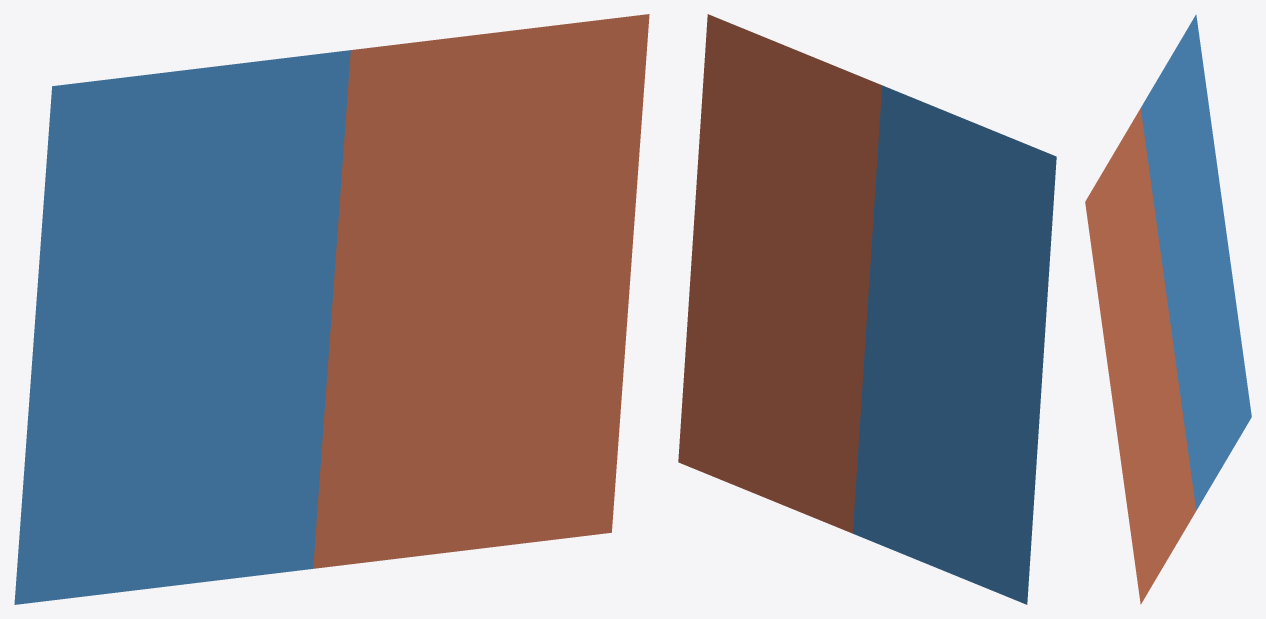
The model's file is gpu-derived.glb.
3 views of the same model, side by side, from view 1: azimuth 30°, elevation 25°; view 2: azimuth 150°, elevation 25°; view 3: azimuth 270°, elevation 25° (orthographic). The views are drawn at different scales.
Bounding box in the file's own units: 1.37 × 1.37 × 0.5126.
